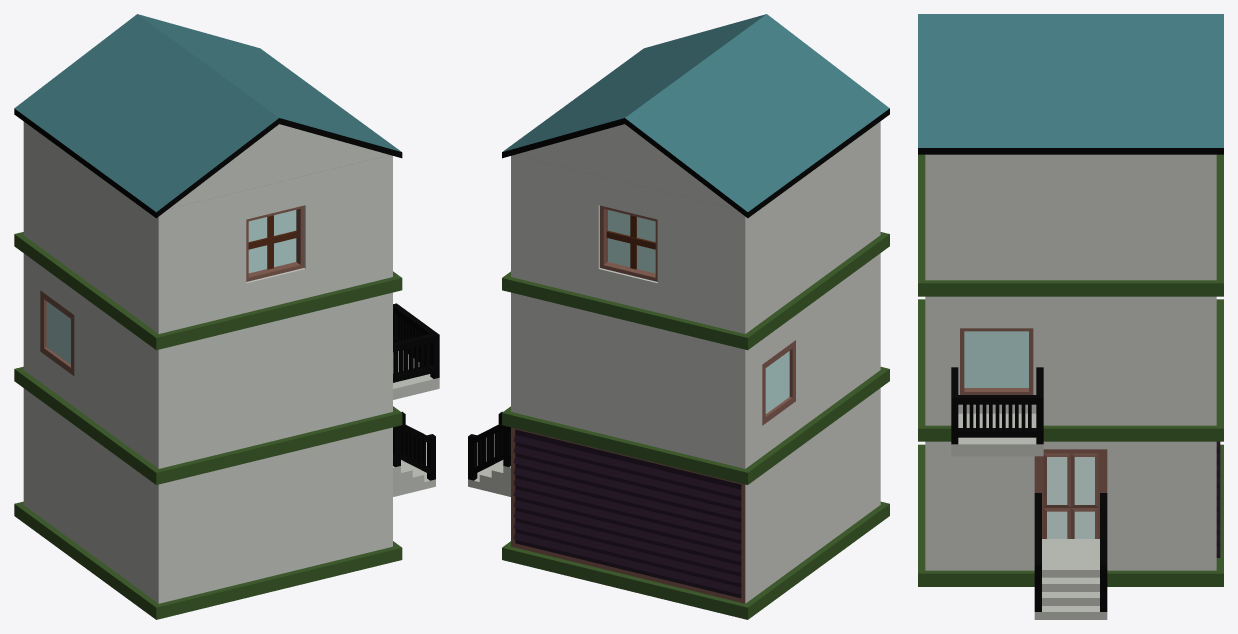
File: building.fbx
3 renders of one model, left to right at view 1: azimuth 30°, elevation 25°; view 2: azimuth 150°, elevation 25°; view 3: azimuth 270°, elevation 25°, orthographic. The views are drawn at different scales.
Parts seen in each view (by area): view 1: building_005.001; view 2: building_005.001; view 3: building_005.001.
Boxes of the visible parts, left/top/right/bottom form: building_005.001: left=14, top=14, right=439, bottom=619; building_005.001: left=468, top=14, right=889, bottom=619; building_005.001: left=918, top=14, right=1223, bottom=619.
Bounding box in the file's own units: 9.29 × 12.55 × 6.84.
